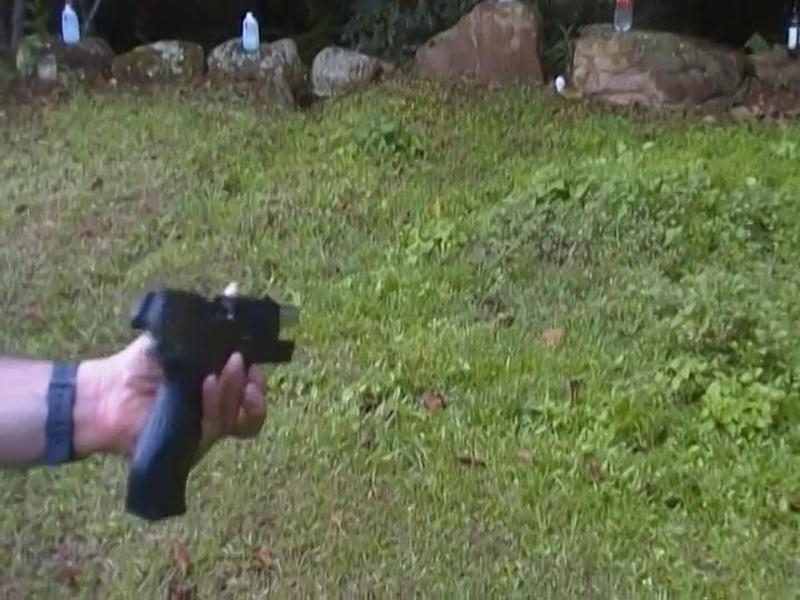Pistola: (103, 273, 324, 532)
